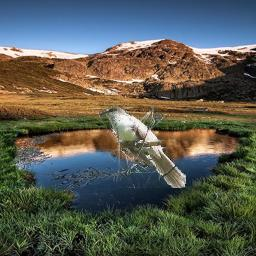Cuckoo: (98, 106, 187, 188)
